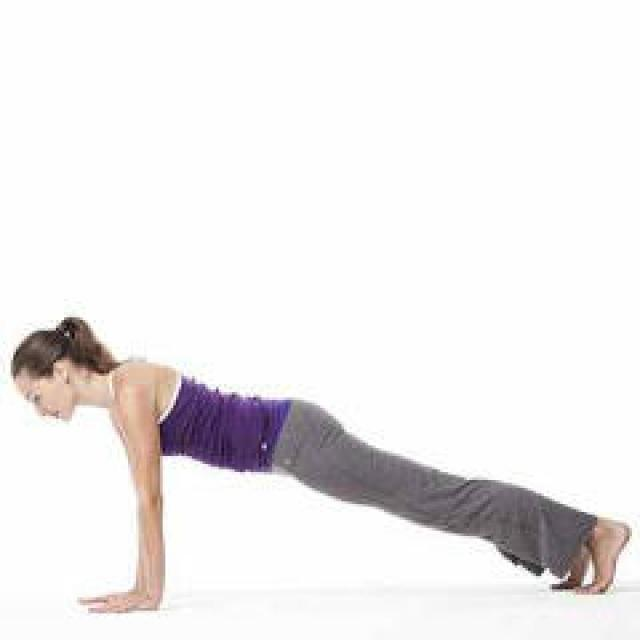yoga-pose plank: (12, 302, 632, 610)
